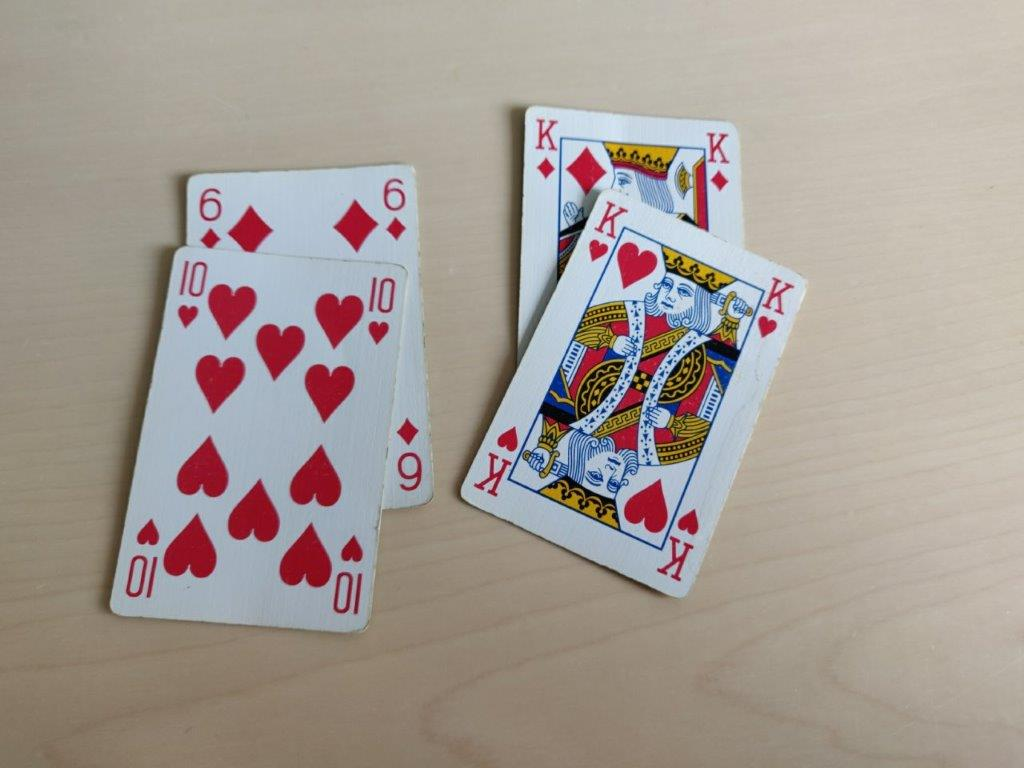10H: (163, 251, 216, 330), (363, 272, 402, 348)
6D: (373, 169, 416, 244), (194, 172, 228, 253)
KD: (524, 107, 563, 184), (696, 125, 735, 193)
KH: (745, 260, 800, 342), (579, 193, 628, 274)
